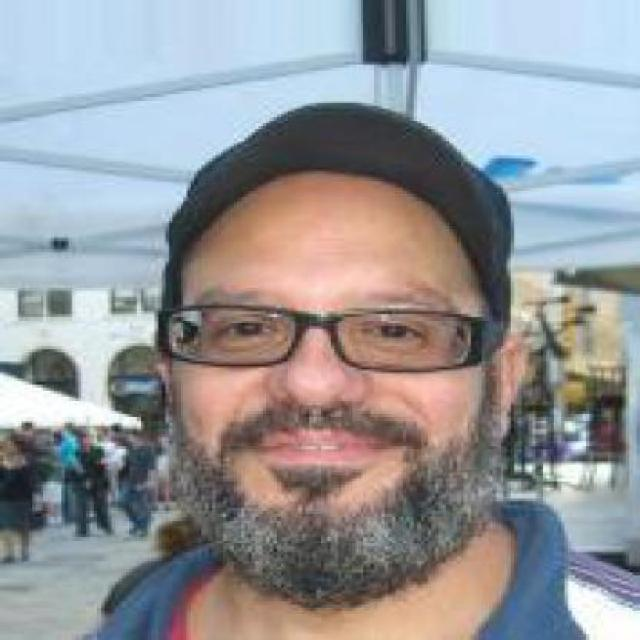closed-mouth: (256, 421, 389, 474)
